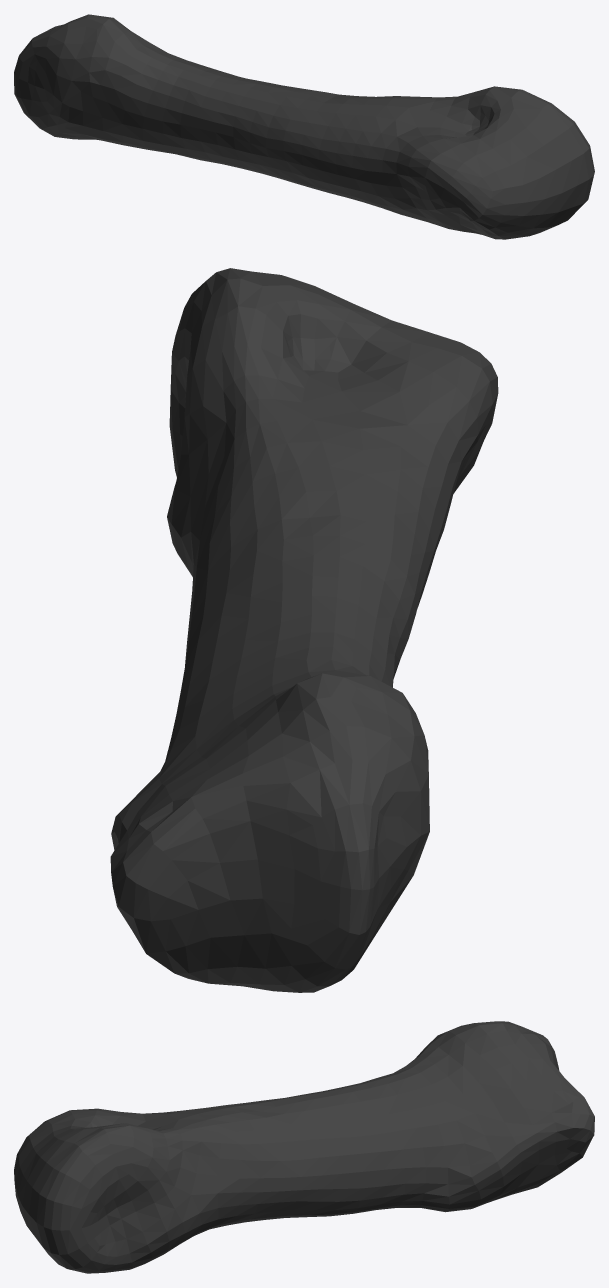
Rendered from Metacarpal_I.glb.
The picture shows the model from 3 angles, top to bottom: view 1: azimuth 30°, elevation 25°; view 2: azimuth 150°, elevation 25°; view 3: azimuth 270°, elevation 25°; orthographic projection. The views are drawn at different scales.
Parts seen in each view (by area): view 1: Metacarpal_I; view 2: Metacarpal_I; view 3: Metacarpal_I.
Boxes of the visible parts, bbox=[...] form: Metacarpal_I: bbox=[14, 14, 594, 239]; Metacarpal_I: bbox=[110, 268, 498, 992]; Metacarpal_I: bbox=[14, 1021, 594, 1273].
Size of the model in its own units: 0.1949 by 0.0846 by 0.2869.
Materials: 1 (1 with a texture image).
